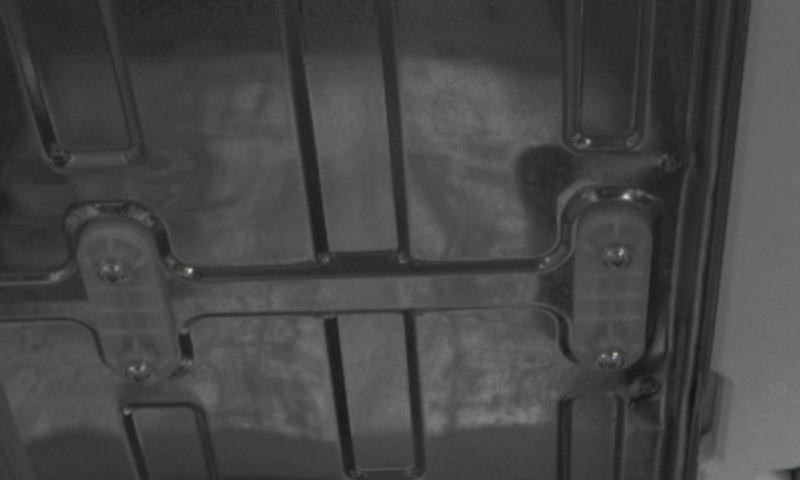vida-ok: (87, 249, 137, 295), (115, 353, 163, 392), (590, 338, 636, 378), (597, 237, 635, 276)
